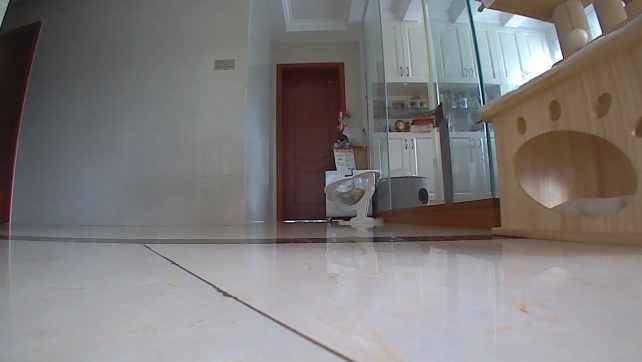door_anno: (275, 60, 348, 228)
